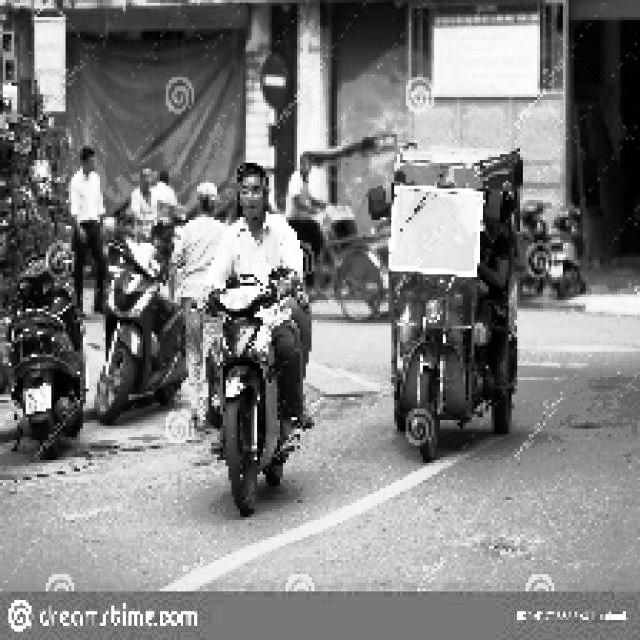Bike: (212, 250, 297, 516), (104, 236, 182, 444), (22, 260, 90, 460)
